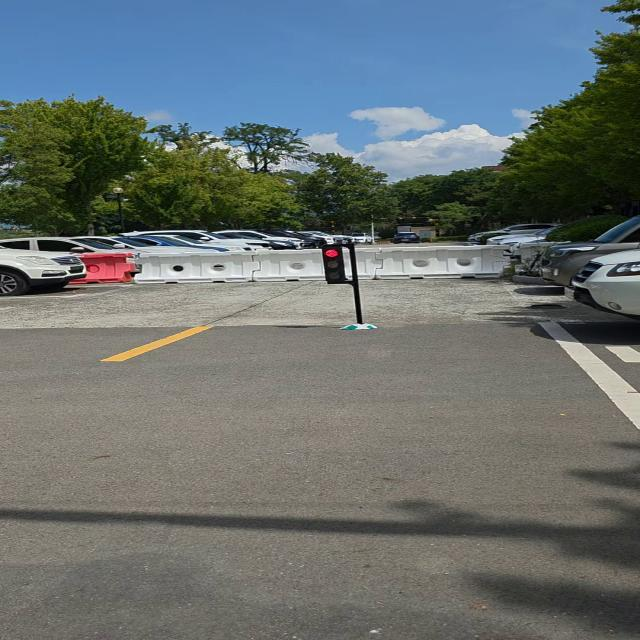red: (318, 243, 352, 286)
